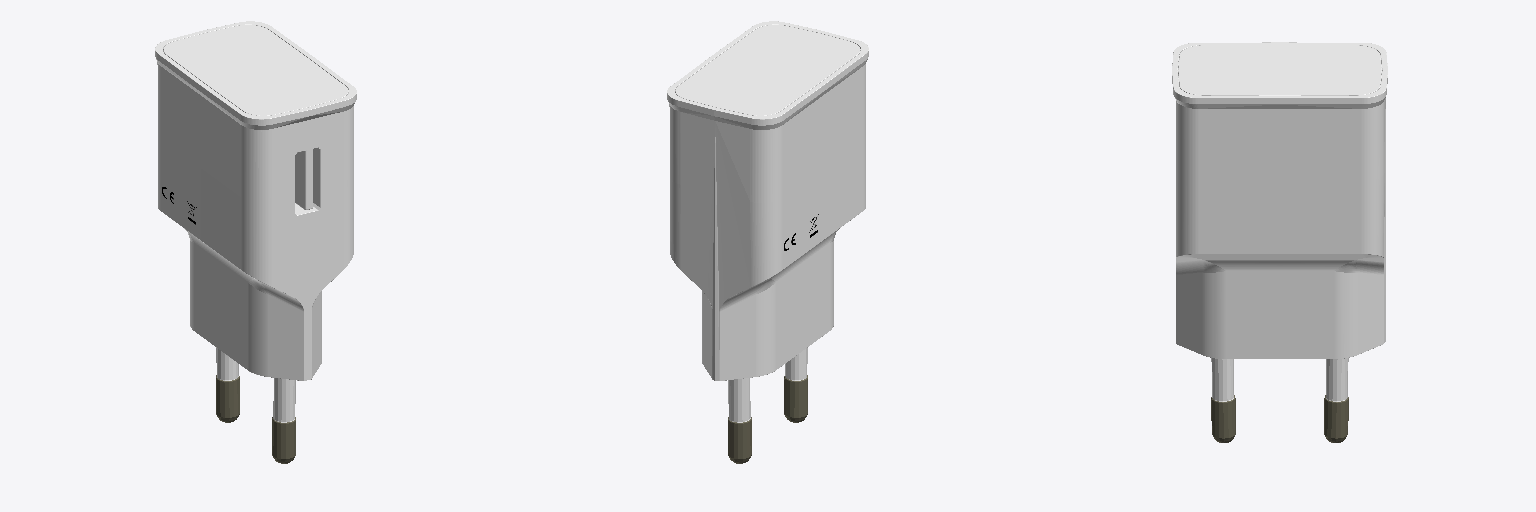
3 views of the same model, side by side, from view 1: azimuth 30°, elevation 25°; view 2: azimuth 150°, elevation 25°; view 3: azimuth 270°, elevation 25° (orthographic).
Visible parts, largest first — view 1: cargador.003, plug.002, lengua_usb.001; view 2: cargador.003, plug.002; view 3: cargador.003, plug.002.
Part boxes in pixels (x1,y1,x2,y2): cargador.003: (155, 21, 356, 380); plug.002: (216, 348, 295, 463); lengua_usb.001: (295, 149, 312, 209); cargador.003: (667, 21, 868, 380); plug.002: (728, 348, 807, 463); cargador.003: (1172, 42, 1387, 358); plug.002: (1211, 358, 1348, 442).
Bounding box in the file's own units: 0.0229 × 0.071 × 0.0375.
Materials: 2 (1 with a texture image).